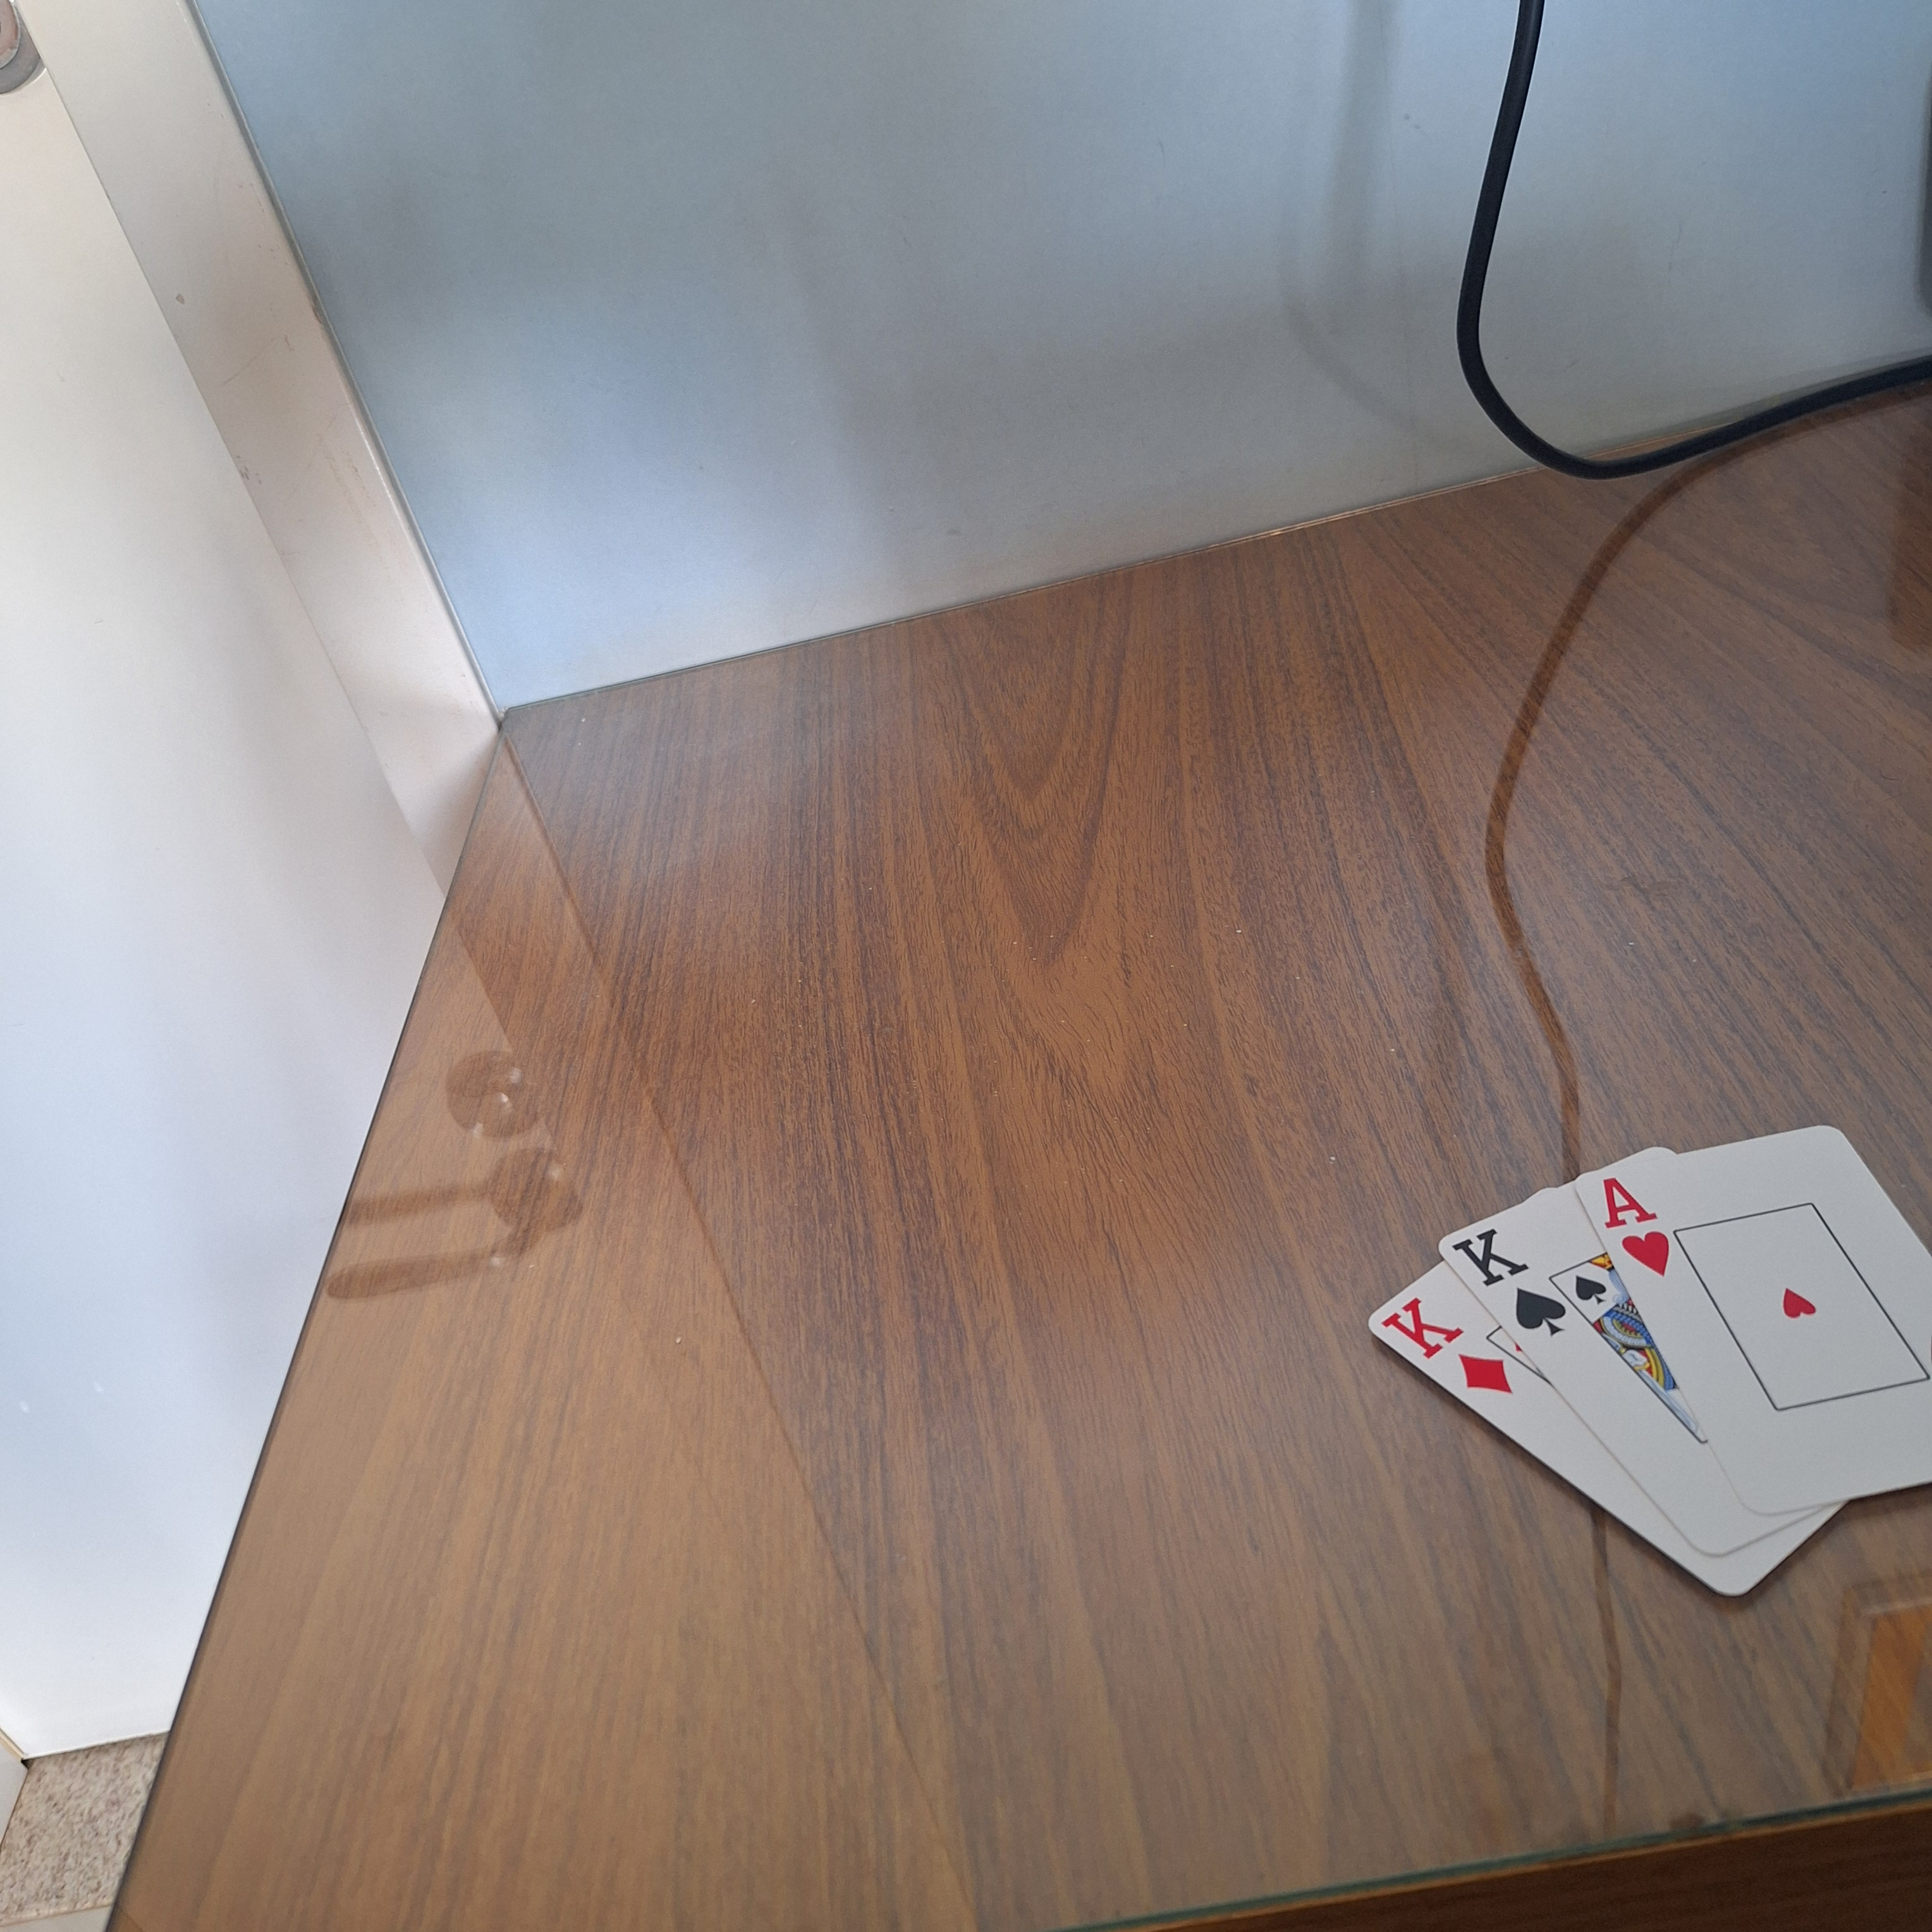AC: (1599, 1173, 1686, 1279)
KE: (1447, 1226, 1568, 1343)
KO: (1369, 1290, 1514, 1401)
